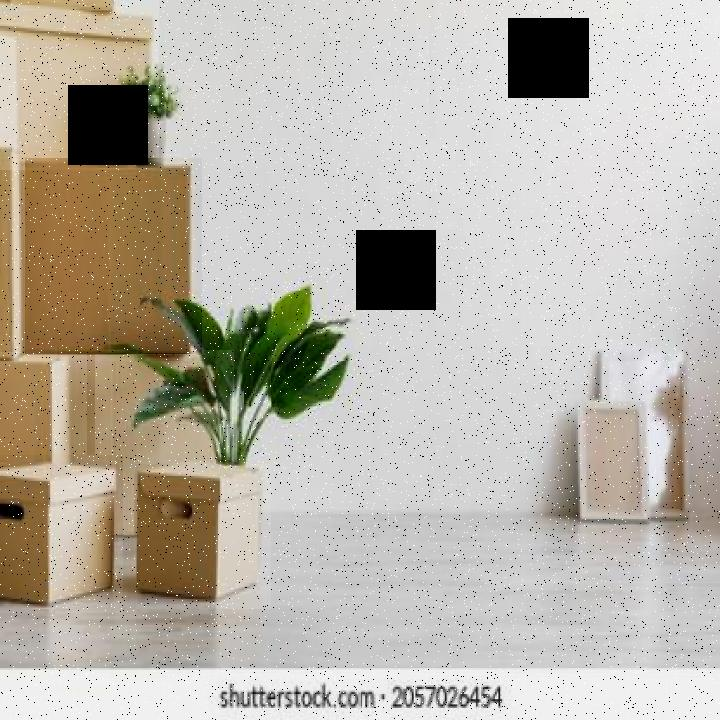box: (25, 158, 202, 354), (0, 0, 159, 170), (95, 350, 236, 536), (136, 464, 271, 609), (0, 455, 123, 613), (0, 352, 87, 463)
